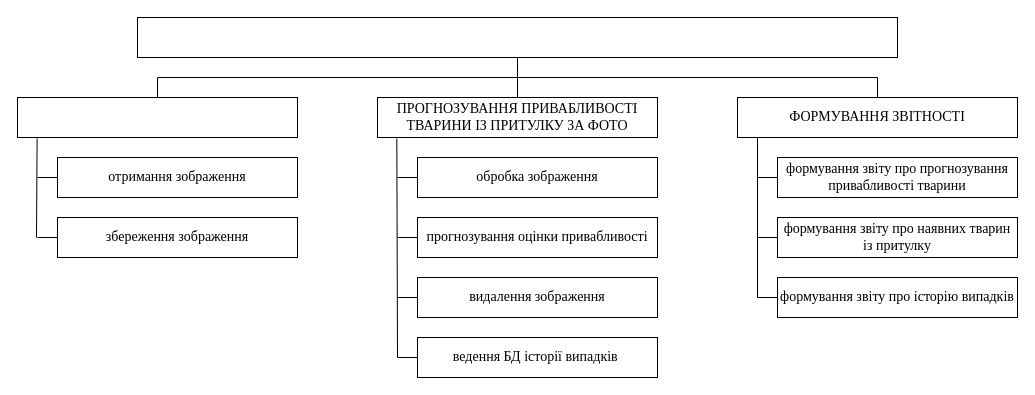
The diagram is 1035 pixels wide and 395 high, and some of its shapes have lost their labels. The box of each missing label's shape, as (x1, y1, x2, y2) in pixels:
ОПРАЦЮВАННЯ ВХ. ІНФОРМАЦІЇ: (16, 96, 298, 138)
ІНТЕЛЕКТУАЛЬНА ТЕХНОЛОГІЯ ПРОГНОЗУВАННЯ ПРИВАБЛИВОСТІ ТВАРИНИ ІЗ ПРИТУЛКУ: (136, 16, 898, 58)
